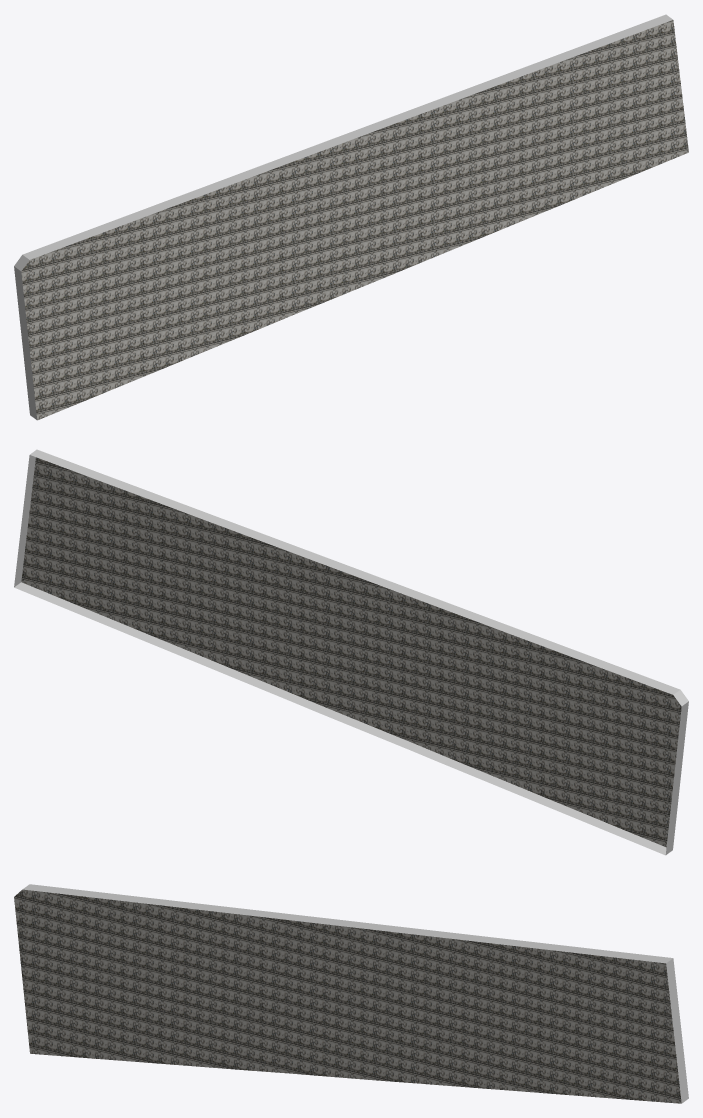
File: geospecific_367.obj
3 renders of one model, top to bottom at view 1: azimuth 30°, elevation 25°; view 2: azimuth 150°, elevation 25°; view 3: azimuth 330°, elevation 25°, orthographic.
Visible parts, largest first — view 1: Building; view 2: Building; view 3: Building.
Part boxes in pixels (left/top/right/bottom): Building: left=14, top=14, right=688, bottom=420; Building: left=14, top=449, right=688, bottom=855; Building: left=14, top=884, right=688, bottom=1103.
Size of the model in its own units: 159 by 55.7 by 3.
